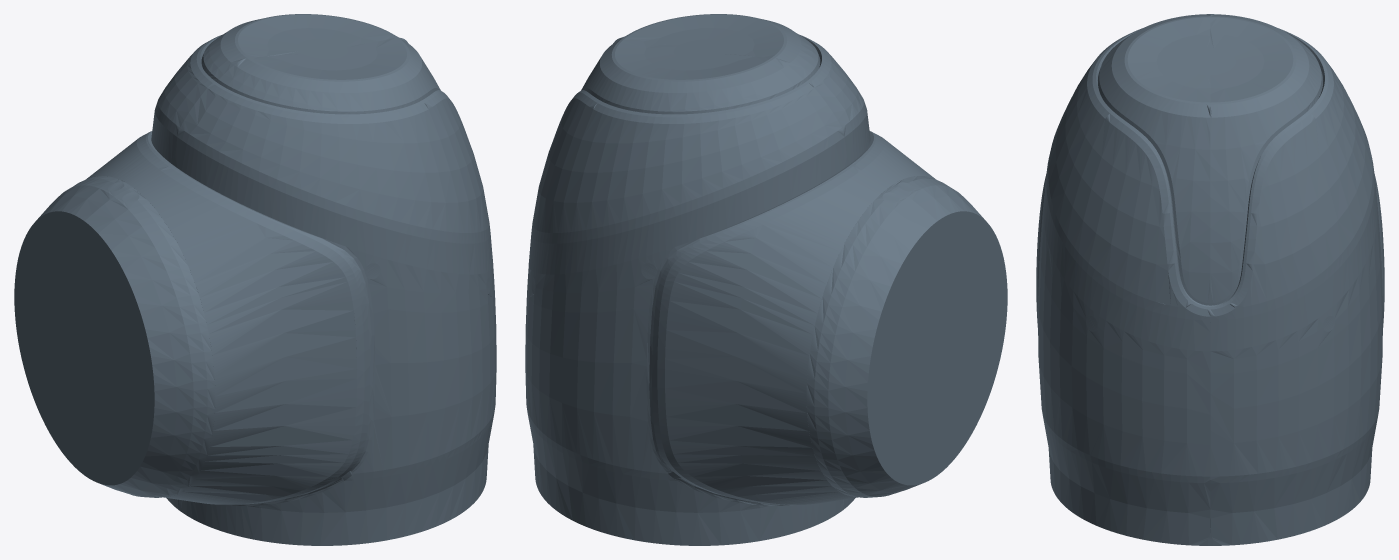
3 renders of one model, left to right at view 1: azimuth 30°, elevation 25°; view 2: azimuth 150°, elevation 25°; view 3: azimuth 270°, elevation 25°, orthographic. The views are drawn at different scales.
Parts seen in each view (by area): view 1: MF1013_2_2; view 2: MF1013_2_2; view 3: MF1013_2_2.
Boxes of the visible parts, x1,y1,x2,y2 form: MF1013_2_2: (14,14,496,545); MF1013_2_2: (525,14,1007,545); MF1013_2_2: (1036,14,1384,545).
Bounding box in the file's own units: 179 × 143 × 192.
